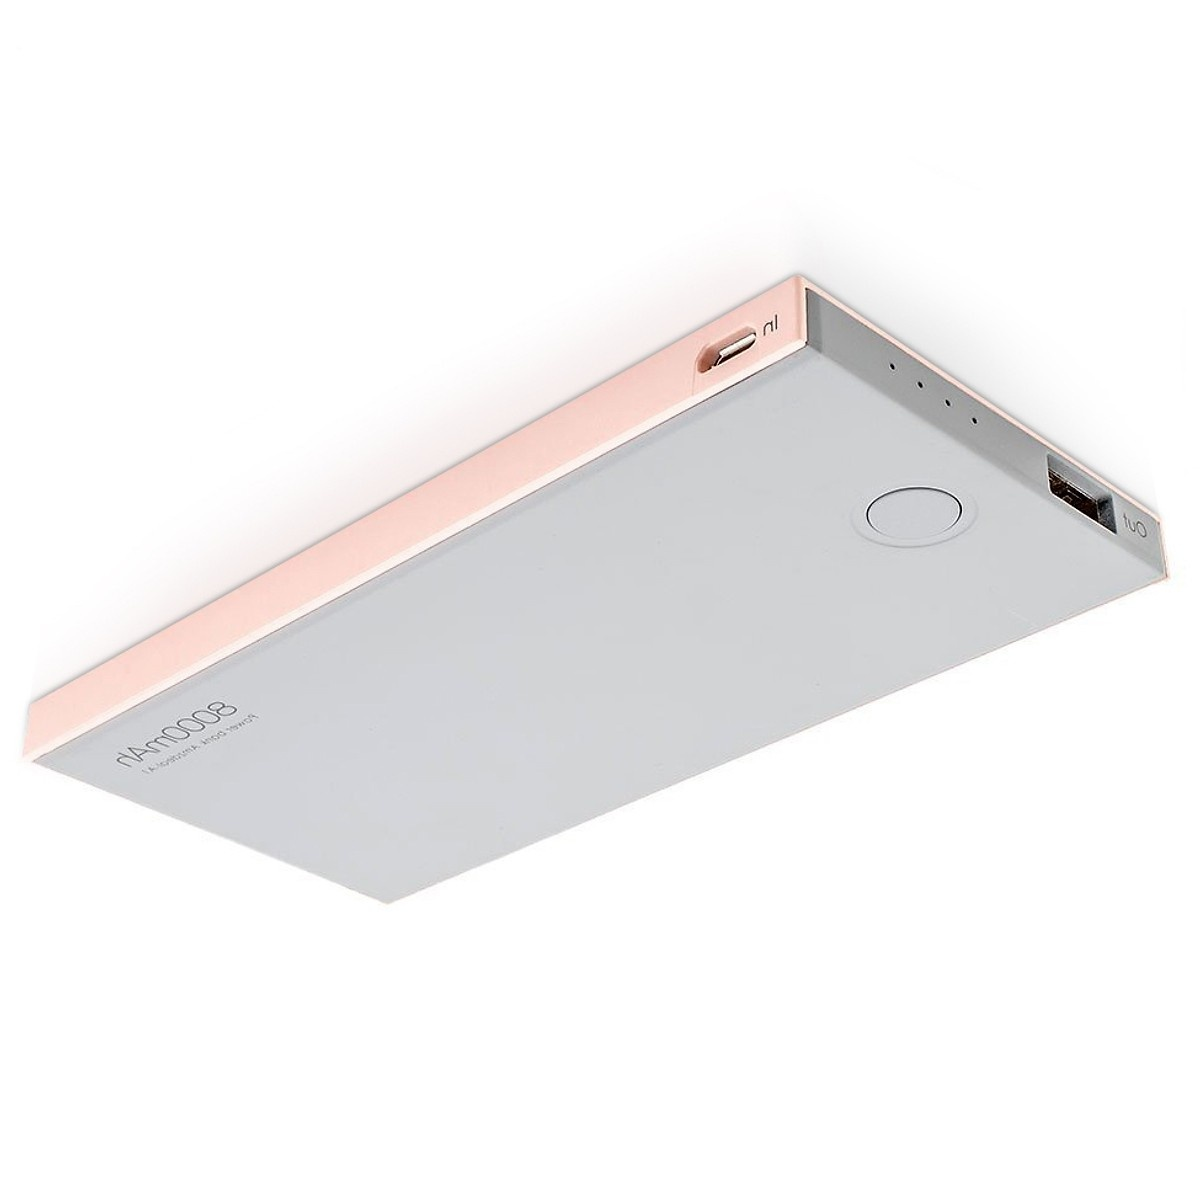Aukey: (53, 611, 380, 823)
